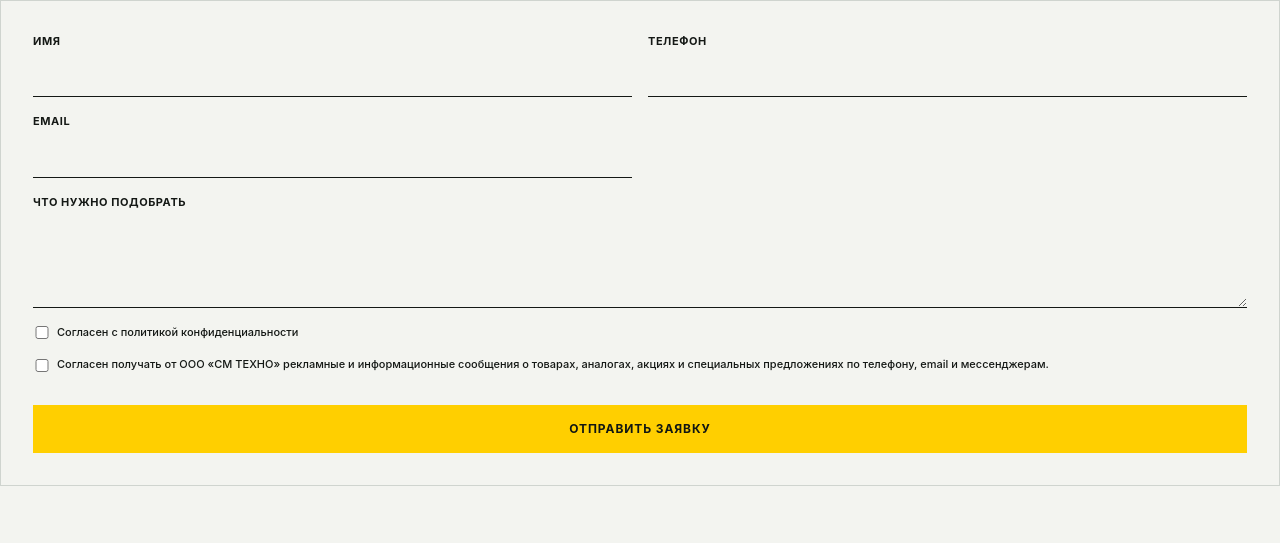
Test: LeadForm › shows the server-provided error message on validation failure
Type "Иван" into the field labelled "Имя" at (332, 77), box 33,56 -> 632,97
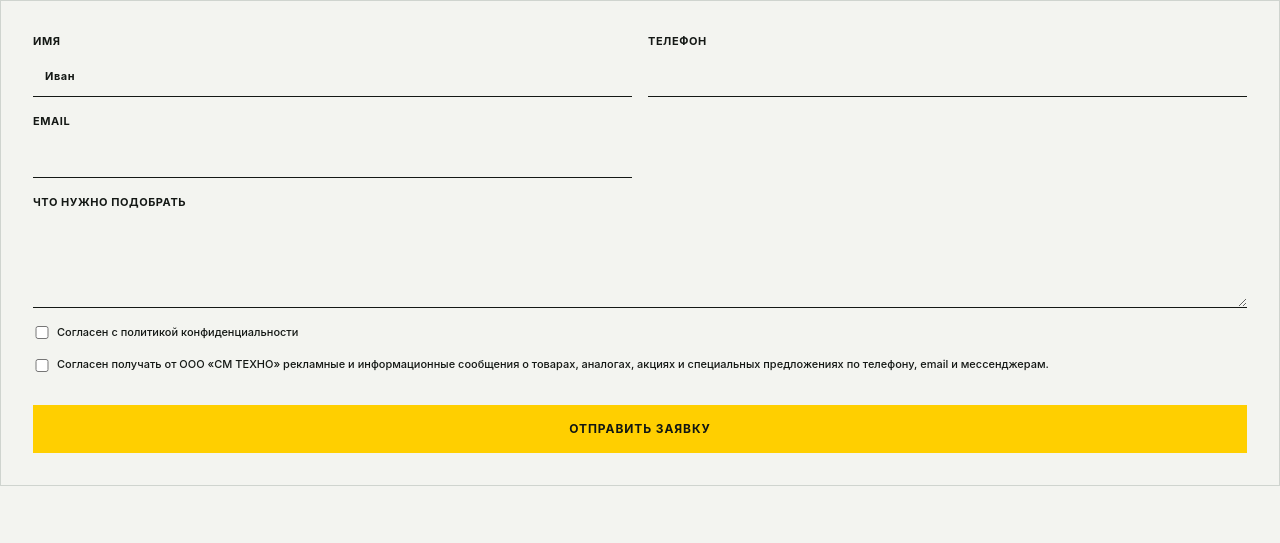
Type "+7 900 000-00-00" into the field labelled "Телефон" at (948, 77), box 648,56 -> 1247,97
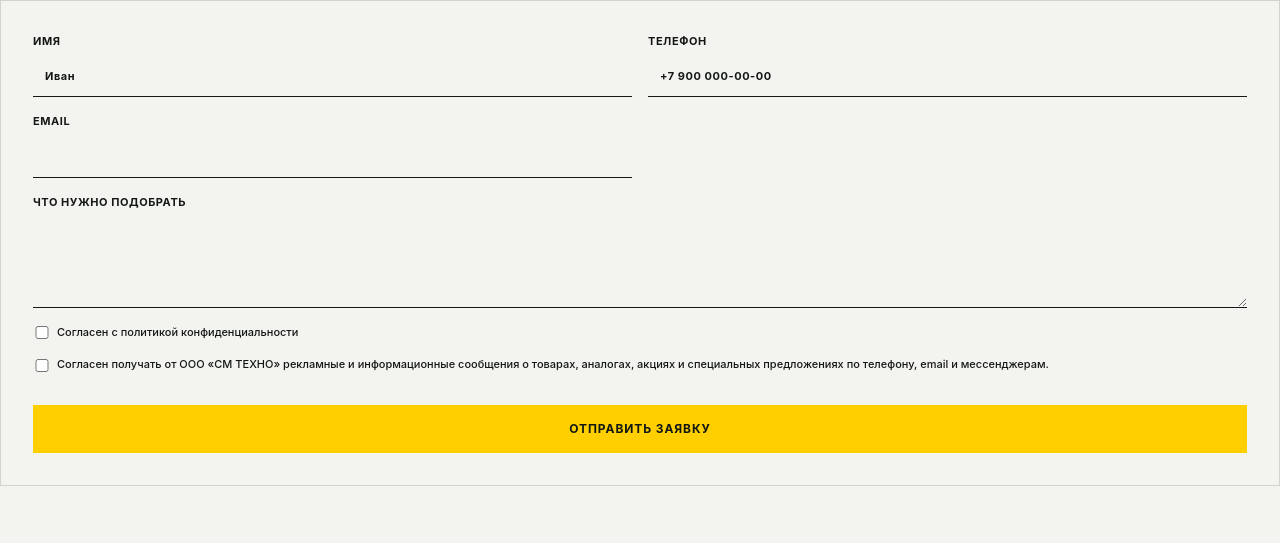
Click the checkbox labelled "Согласен с политикой конфиденциальности" at (42, 333), box 33,326 -> 51,339
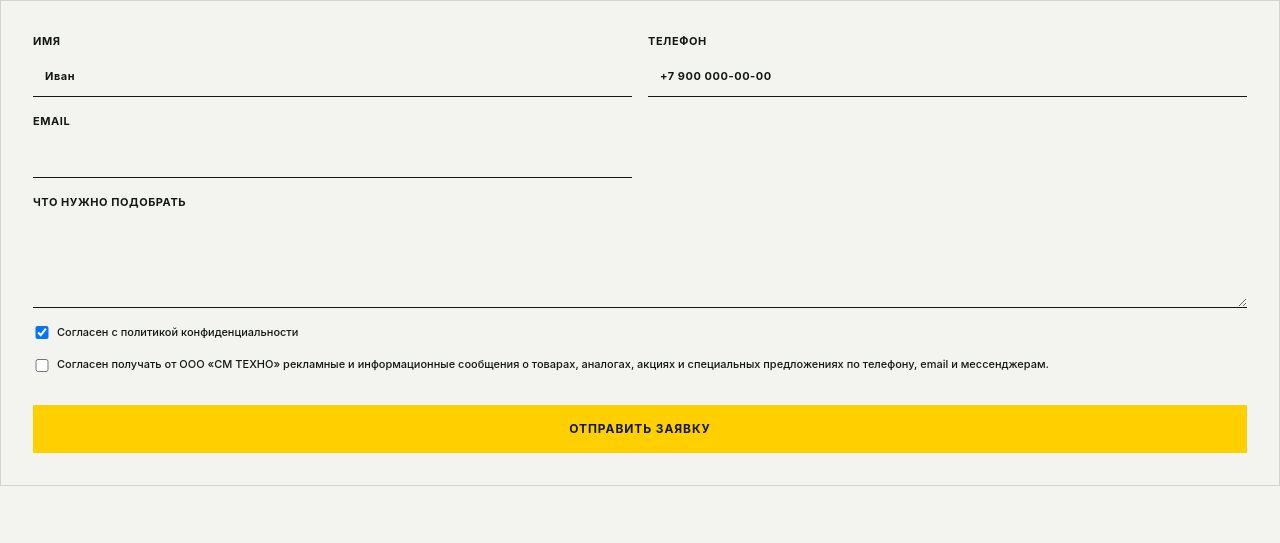
Click the button "Отправить заявку" at (640, 429), box 33,405 -> 1247,453
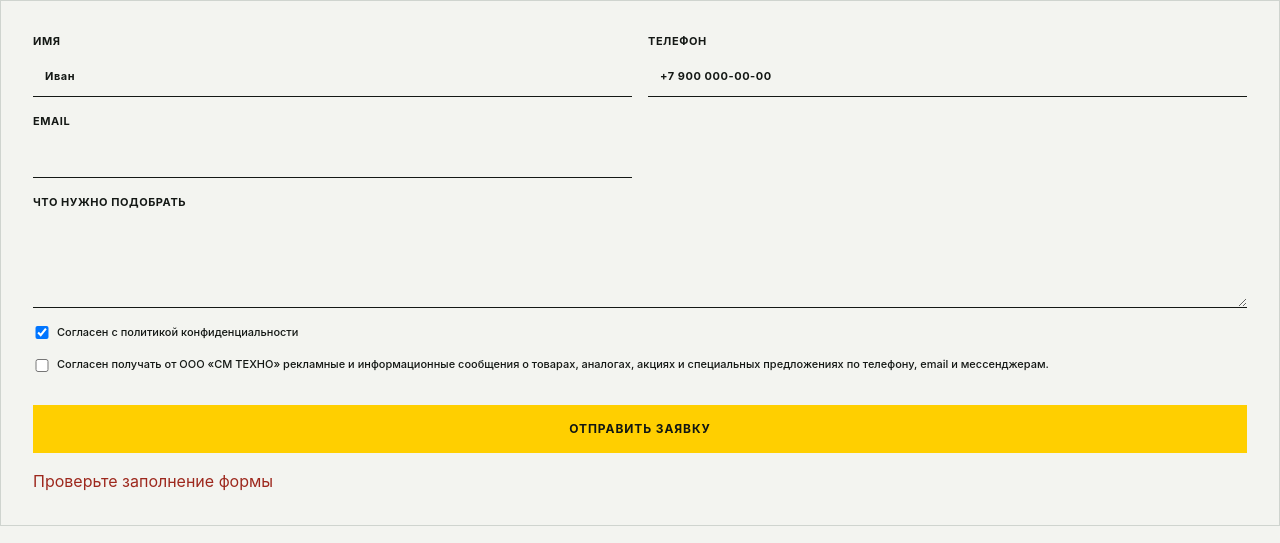
Expected: the message reads "Проверьте заполнение формы", 33,471 -> 273,491
